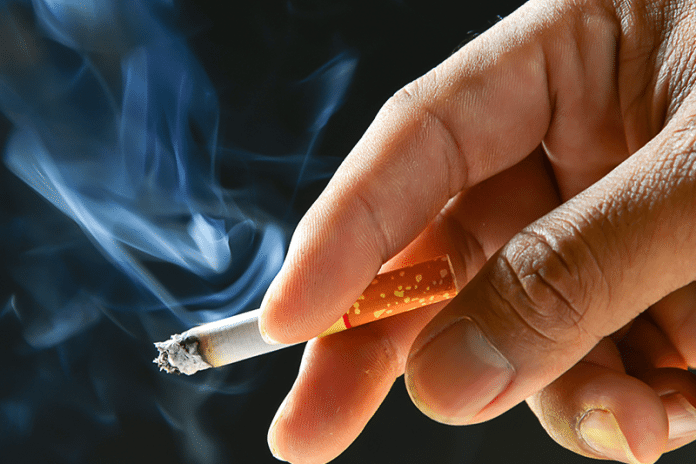cigarette: (140, 246, 470, 383)
